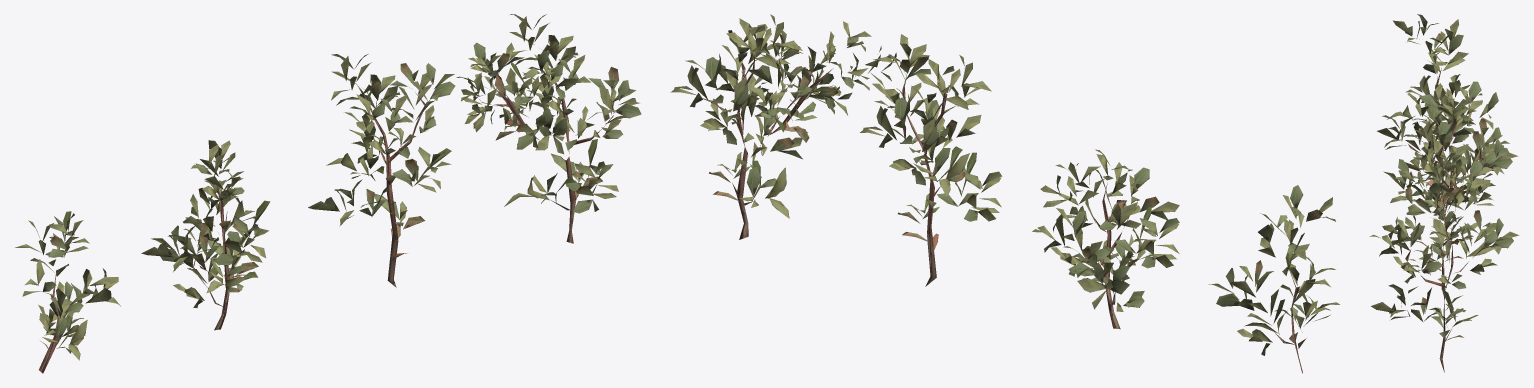
The model's file is shrub_04.glb.
3 renders of one model, left to right at view 1: azimuth 30°, elevation 25°; view 2: azimuth 150°, elevation 25°; view 3: azimuth 270°, elevation 25°, orthographic. The views are drawn at different scales.
Parts seen in each view (by area): view 1: shrub_04; view 2: shrub_04; view 3: shrub_04.
Boxes of the visible parts, <box> form: shrub_04: <box>15,14,641,373</box>; shrub_04: <box>670,14,1339,373</box>; shrub_04: <box>1369,14,1519,372</box>.
Size of the model in its own units: 0.5837 by 0.2185 by 0.1461.
Materials: 1 (1 with a texture image).
